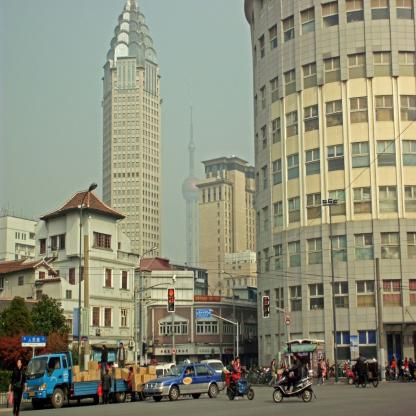Car: (144, 365, 225, 401), (204, 362, 230, 374)
